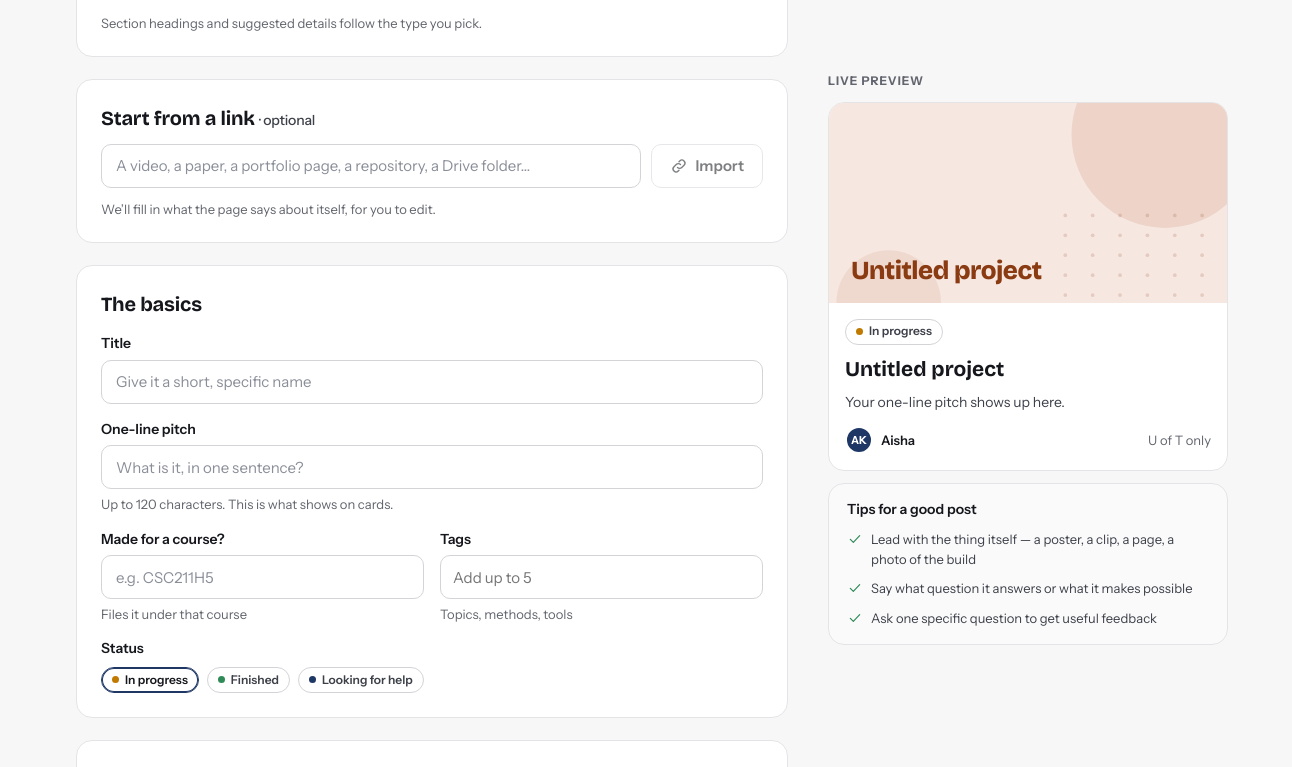
Test: the editor, starting a project › saves a private draft first and makes it visible last
(page scrolled)
Type "Mussels downstream" into the field with placeholder "Give it a short, specific name".
click(432, 382); type("Mussels downstream")  # box [101, 360, 763, 404]
(page scrolled)
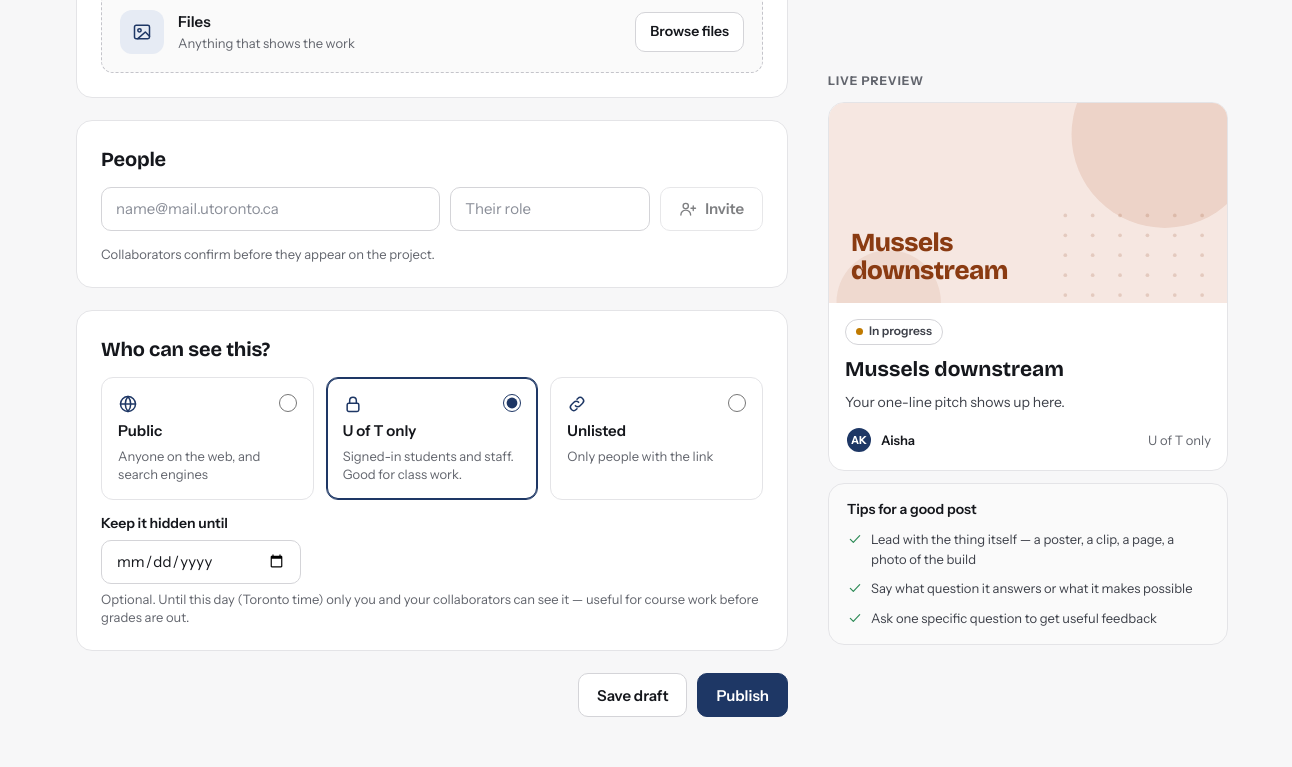
Click the button "Publish".
click(743, 695)  # box [698, 673, 788, 717]
(page scrolled)
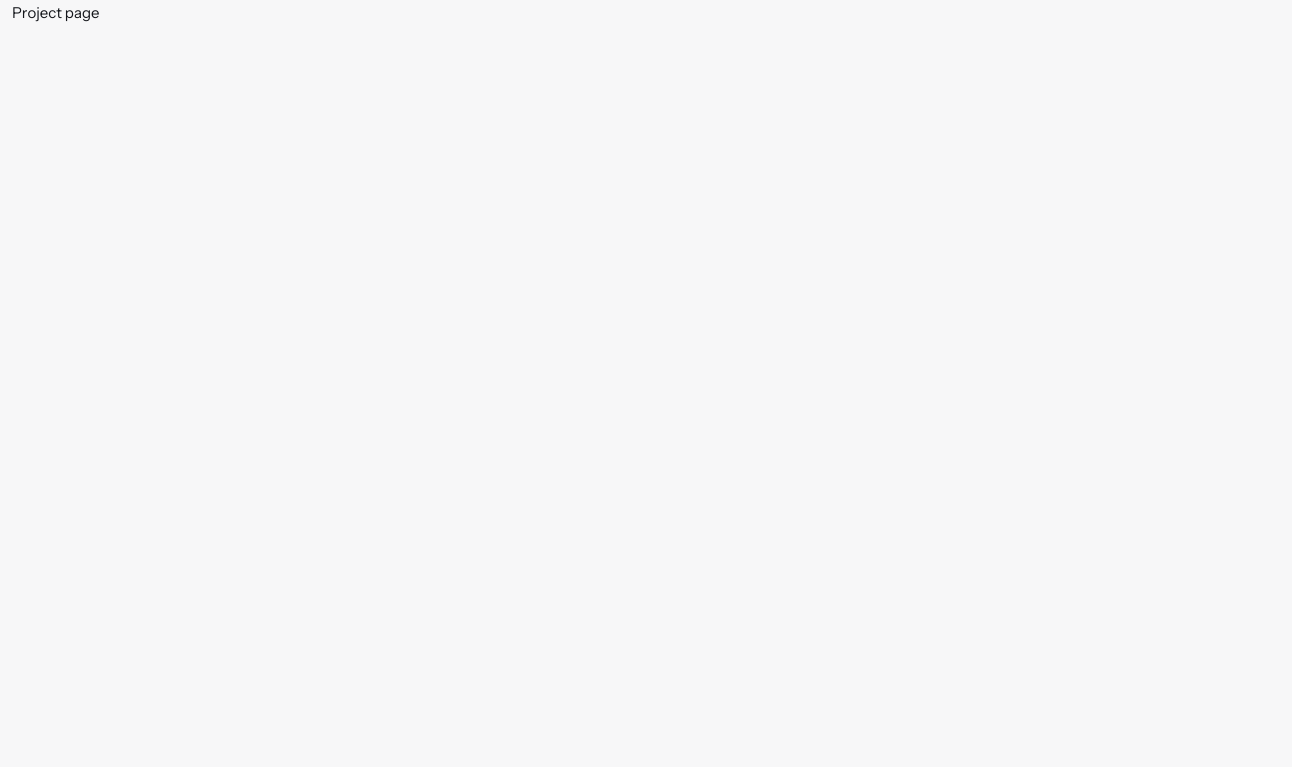
Check: the text "Project page" is shown, box [12, 3, 100, 22]
